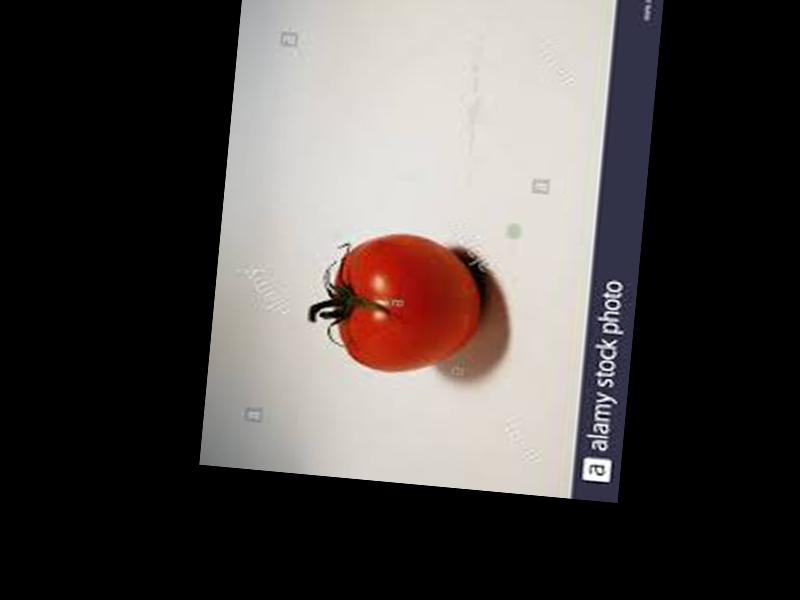Tomato: (329, 229, 487, 378)
